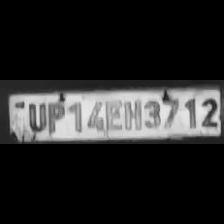1: (65, 98, 84, 132), (180, 95, 198, 129)
2: (197, 96, 219, 128)
3: (140, 97, 160, 129)
4: (84, 97, 107, 130)
7: (159, 95, 179, 129)
E: (104, 98, 122, 130)
H: (122, 96, 140, 130)
P: (46, 99, 66, 133)
U: (23, 100, 47, 132)
